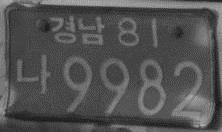1: (148, 14, 160, 50)
2: (169, 60, 205, 121)
8: (135, 58, 168, 117), (116, 16, 141, 47)
9: (61, 55, 94, 116), (99, 55, 130, 119)
경남_O: (48, 14, 106, 47)
나: (15, 51, 51, 96)
